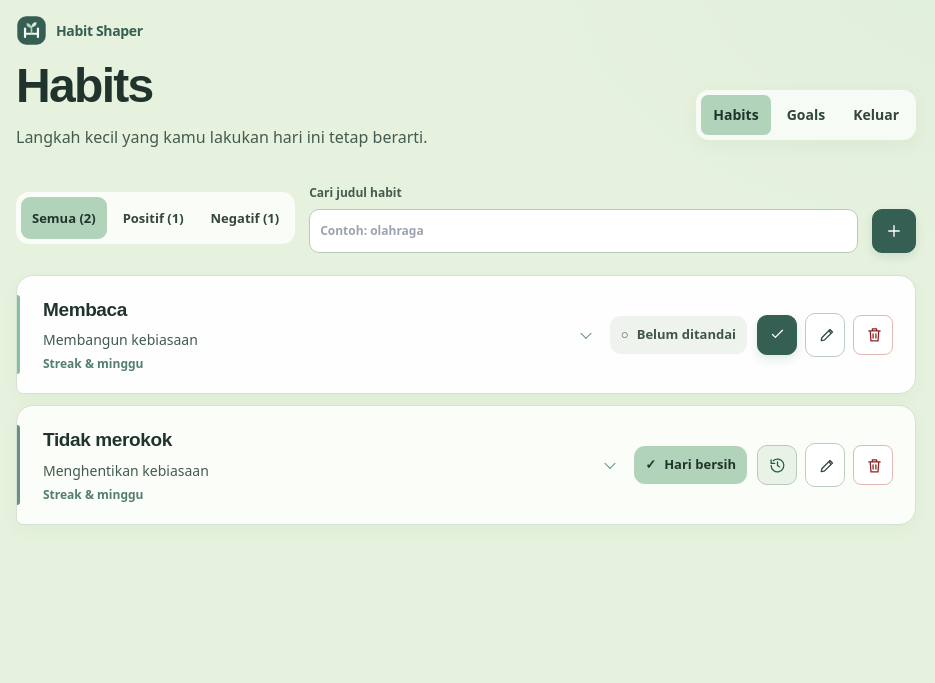
today habit list › UI-06 displays daily streak values when details are opened
The width and height of the screenshot is (935, 683).
Click the button with aria-label "Tampilkan streak dan kalender mingguan: Membaca".
click(85, 309)  # box [43,296,594,374]
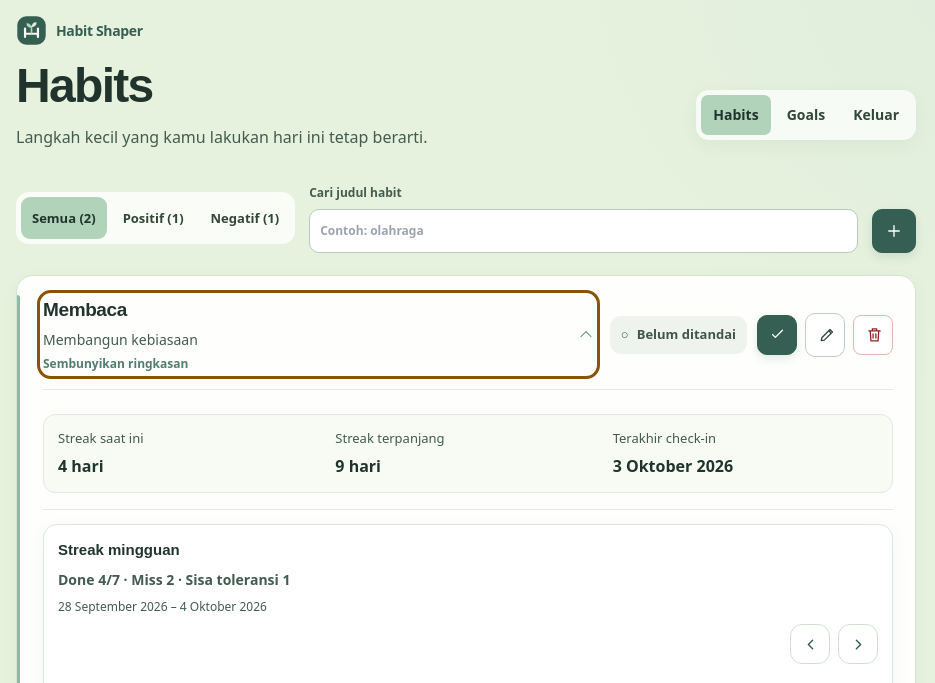
Expected: the text "Streak saat ini" is shown, [58,430,144,448]
Expected: the text "4 hari" is shown, [58,455,104,477]
Expected: the text "9 hari" is shown, [335,455,381,477]
